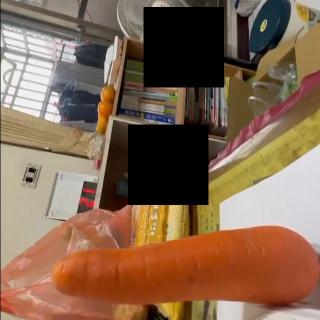carrot: (50, 223, 320, 305)
